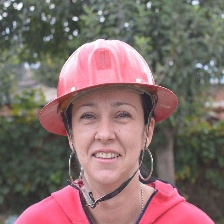helmet: (37, 39, 185, 129)
person: (34, 43, 187, 222)
